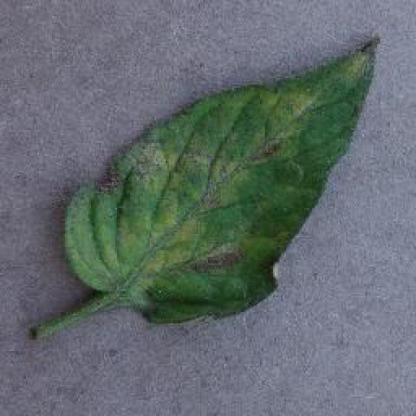Tomato_Leaf_Mold: (67, 36, 379, 324)
